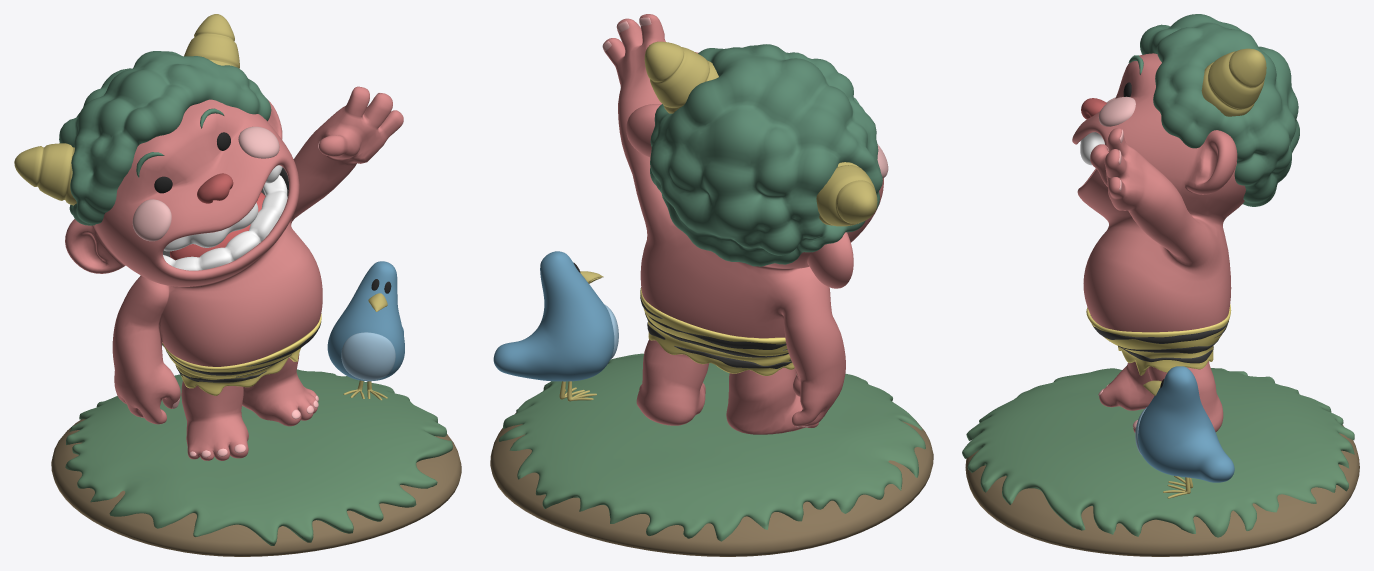
The model's file is oni.glb.
The picture shows the model from 3 angles, left to right: view 1: azimuth 30°, elevation 25°; view 2: azimuth 150°, elevation 25°; view 3: azimuth 270°, elevation 25°; orthographic projection. The views are drawn at different scales.
Parts seen in each view (by area): view 1: oni_parts, oni_body; view 2: oni_parts, oni_body; view 3: oni_parts, oni_body.
Boxes of the visible parts, x1=… form: oni_parts: x1=14, y1=14, x2=461, y2=556; oni_body: x1=65, y1=86, x2=403, y2=460; oni_parts: x1=490, y1=17, x2=933, y2=556; oni_body: x1=603, y1=14, x2=888, y2=434; oni_parts: x1=962, y1=14, x2=1359, y2=556; oni_body: x1=1072, y1=53, x2=1245, y2=432.
Bounding box in the file's own units: 0.2266 × 0.2505 × 0.2105.
Materials: 2 (2 with a texture image).
